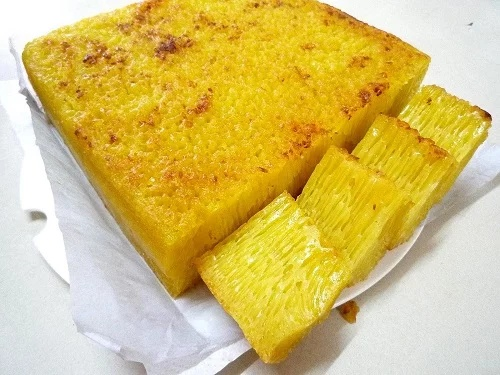bika_ambon: (185, 189, 323, 359), (258, 141, 394, 301), (320, 114, 448, 249)
